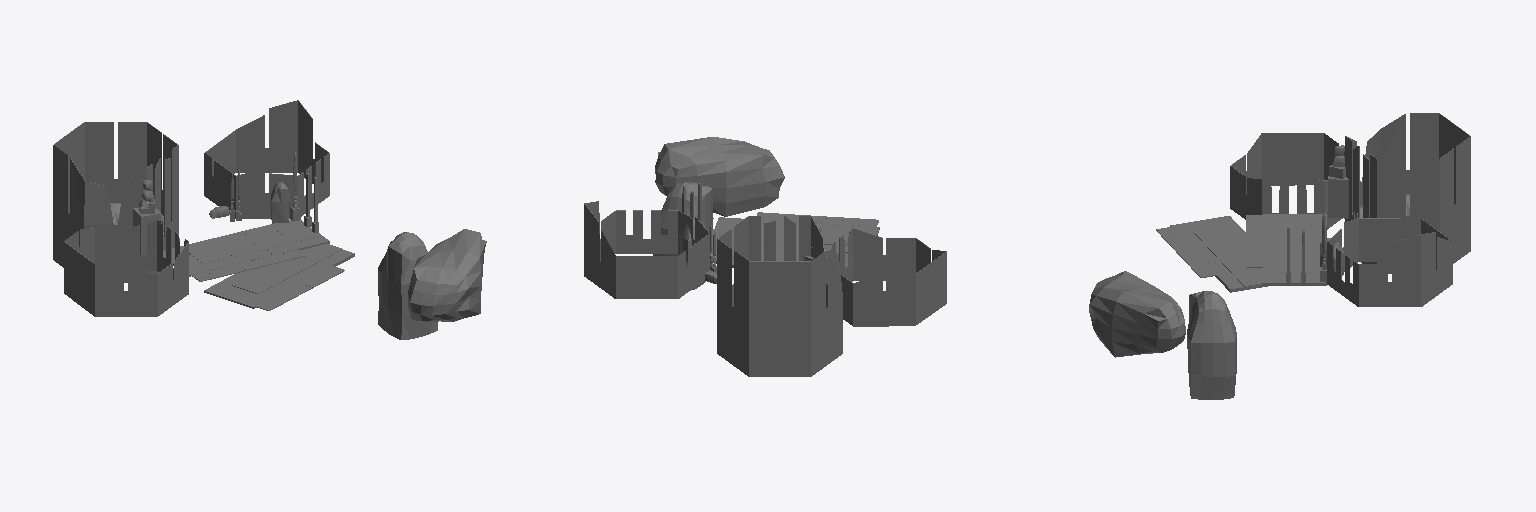
The model's file is elements.obj.
The picture shows the model from 3 angles: view 1: azimuth 30°, elevation 25°; view 2: azimuth 150°, elevation 25°; view 3: azimuth 270°, elevation 25°; orthographic projection.
Visible parts, largest first — view 1: _Courtyard_Elements1; view 2: _Courtyard_Elements1; view 3: _Courtyard_Elements1.
Part boxes in pixels (x1,y1,x2,y2): _Courtyard_Elements1: (53,100,486,339); _Courtyard_Elements1: (584,137,946,376); _Courtyard_Elements1: (1089,113,1470,399).
Size of the model in its own units: 233 by 108 by 227.